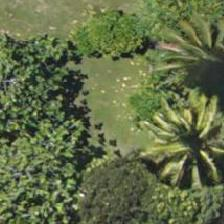Kelapa_Sawit: (148, 103, 223, 194)
